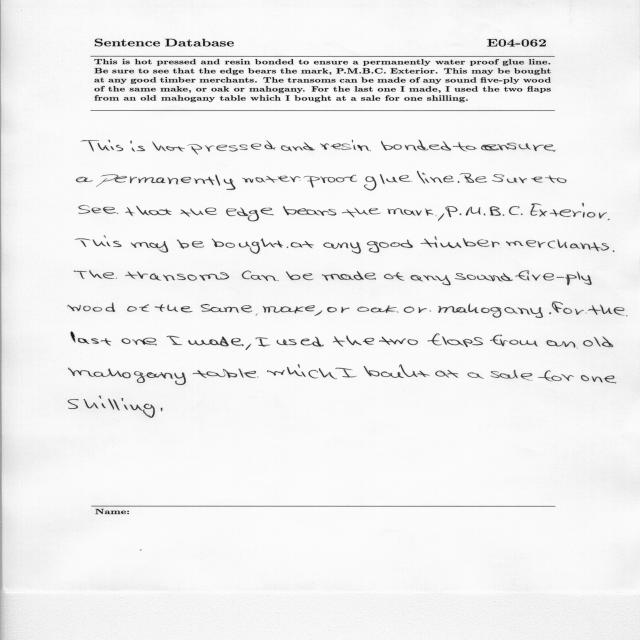word: (97, 174, 236, 190), (69, 367, 186, 385), (68, 396, 155, 418), (438, 303, 543, 318), (187, 140, 276, 155), (506, 240, 609, 252), (212, 238, 288, 254), (530, 203, 607, 218), (516, 271, 592, 286), (125, 272, 229, 282), (267, 365, 337, 379), (421, 236, 499, 248), (188, 336, 251, 350), (445, 206, 523, 217), (364, 365, 430, 378), (364, 174, 412, 191), (381, 140, 451, 151), (428, 333, 483, 347), (304, 175, 357, 188), (201, 304, 258, 316), (481, 143, 556, 152), (263, 305, 323, 316), (193, 368, 259, 378), (227, 208, 274, 222), (367, 240, 413, 253), (320, 140, 371, 151), (71, 332, 111, 346), (322, 271, 376, 281), (283, 206, 336, 216), (490, 335, 538, 346), (75, 236, 122, 247), (333, 335, 374, 347), (417, 171, 454, 184), (125, 206, 172, 216), (277, 337, 324, 347), (455, 273, 513, 281), (82, 140, 124, 151), (491, 370, 533, 381), (492, 174, 543, 183), (323, 242, 361, 254), (552, 302, 587, 315), (588, 305, 627, 316), (68, 303, 115, 312), (410, 275, 451, 285), (131, 241, 168, 252), (242, 270, 279, 281), (242, 176, 300, 183), (538, 371, 574, 382), (342, 208, 381, 218), (388, 208, 434, 216), (79, 205, 119, 214), (74, 271, 117, 279), (155, 304, 192, 313), (152, 142, 185, 152), (583, 337, 613, 348), (358, 305, 399, 313), (181, 208, 217, 217), (581, 375, 616, 384), (379, 337, 418, 345), (281, 142, 315, 151), (459, 173, 487, 183), (122, 338, 157, 346), (547, 340, 578, 349), (177, 240, 204, 249), (286, 271, 313, 280), (453, 142, 477, 151), (336, 368, 357, 378), (404, 306, 431, 313), (435, 370, 458, 378), (384, 272, 404, 281), (127, 304, 149, 312), (545, 175, 566, 183), (130, 141, 145, 152), (291, 241, 314, 248), (167, 336, 183, 345), (258, 339, 271, 347), (467, 373, 484, 379), (76, 177, 93, 182), (436, 213, 445, 221), (341, 307, 350, 313), (327, 307, 337, 312), (256, 338, 268, 340), (161, 408, 163, 412), (458, 181, 460, 183), (613, 250, 615, 252), (549, 313, 551, 315), (608, 219, 610, 220)
